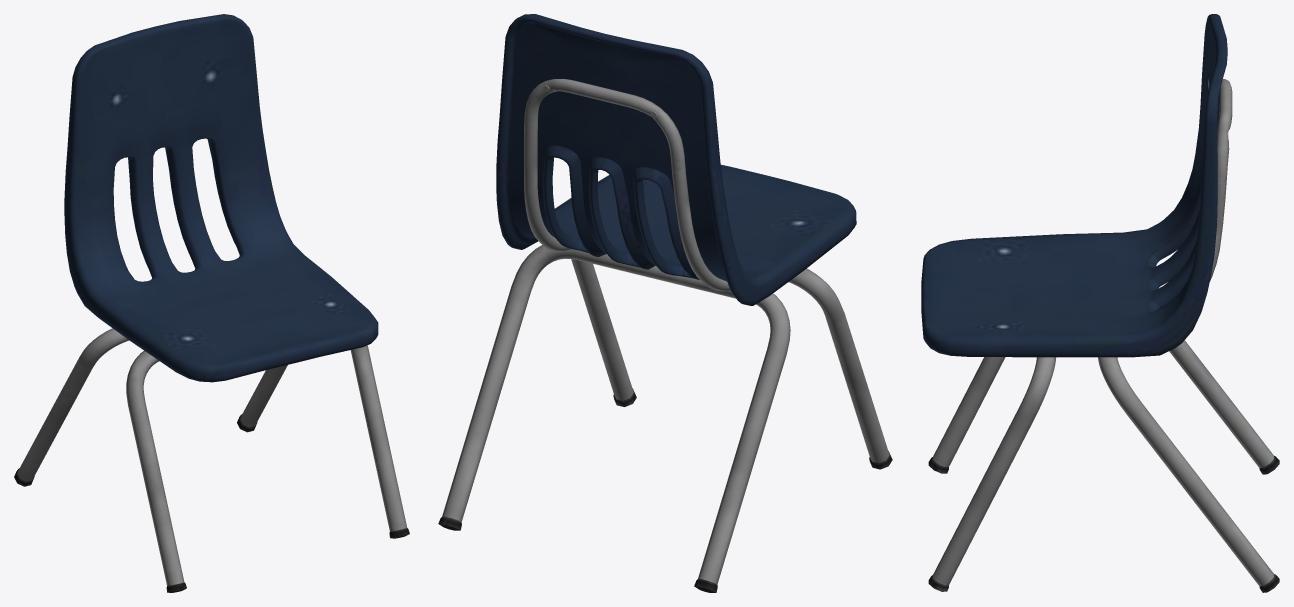
Rendered from chair-school.lite.d449b699.glb.
3 renders of one model, left to right at view 1: azimuth 30°, elevation 25°; view 2: azimuth 150°, elevation 25°; view 3: azimuth 270°, elevation 25°, orthographic. The views are drawn at different scales.
Visible parts, largest first — view 1: model; view 2: model; view 3: model.
Boxes of the visible parts, box(x1,y1,x2,y2) form: model: box(14, 14, 409, 592); model: box(438, 14, 892, 592); model: box(921, 14, 1279, 592).
Size of the model in its own units: 0.5659 by 1.01 by 0.6753.
1 material, 1 textured.
